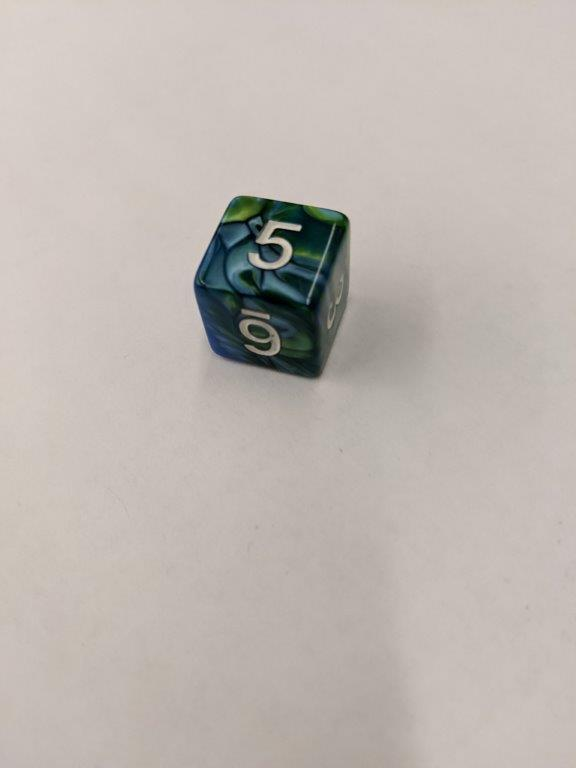d6-5: (192, 191, 349, 382)
